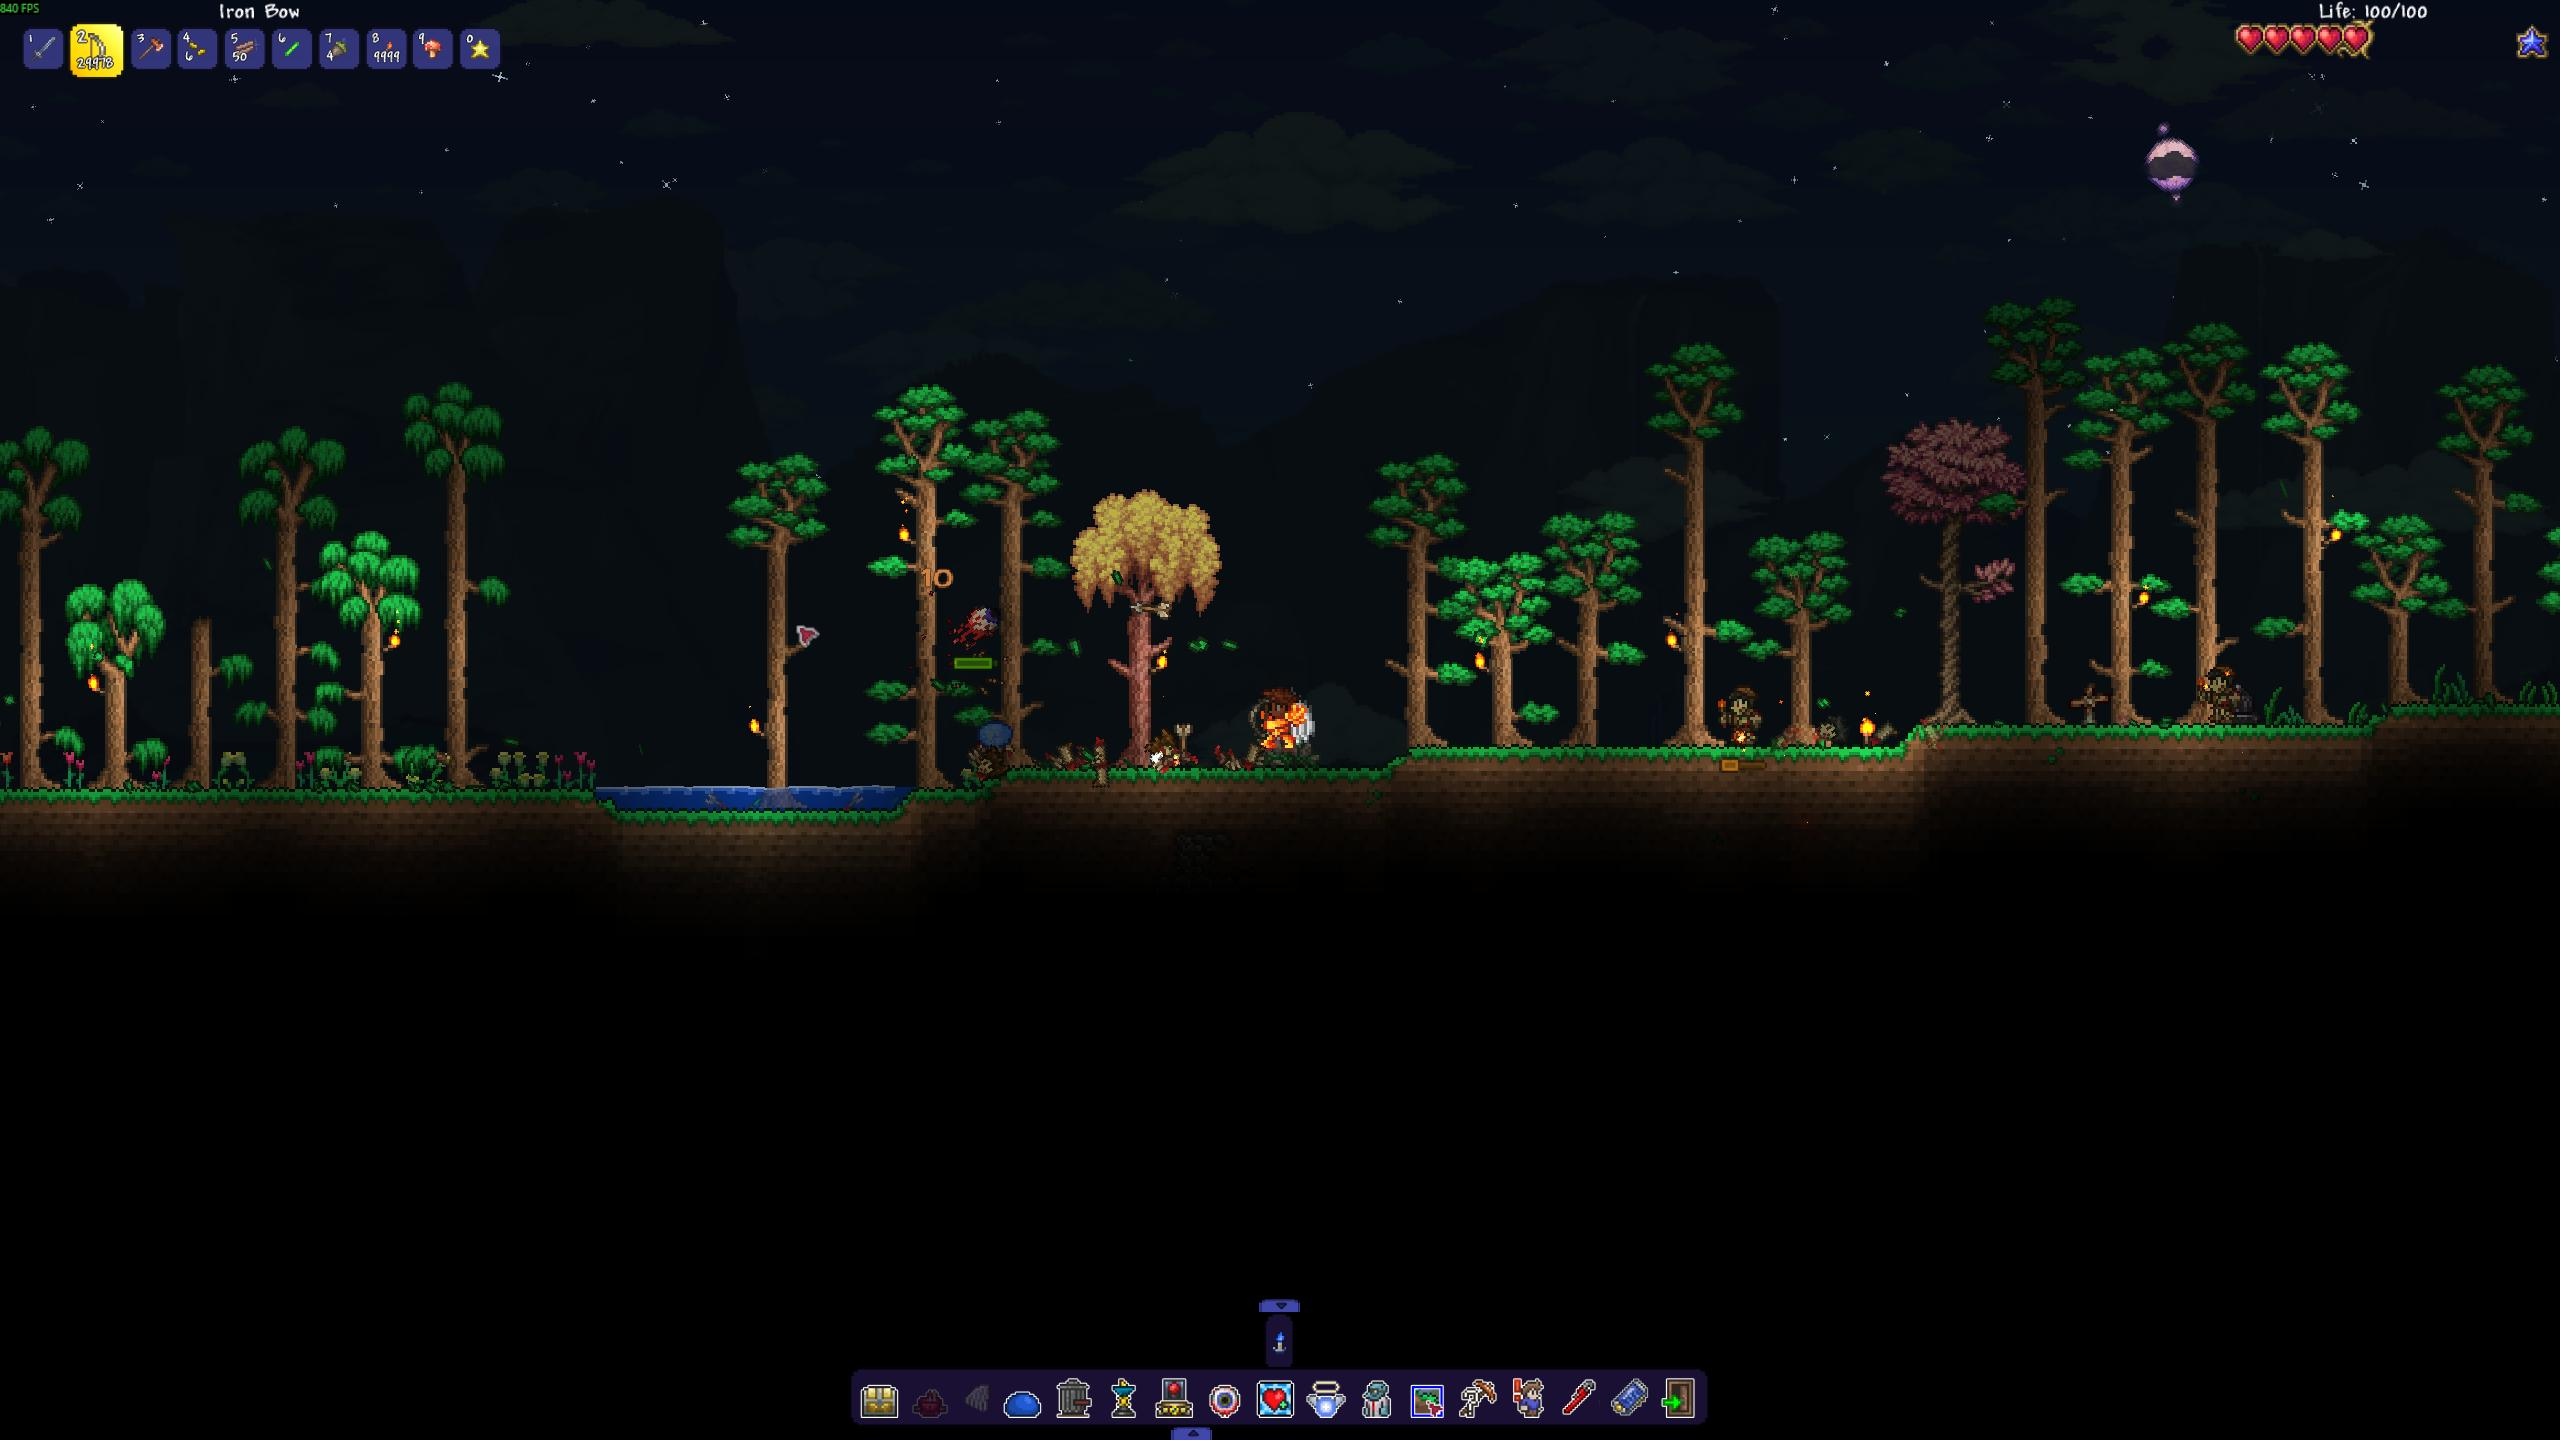Demon Eye: (951, 600, 1002, 652)
Zombie: (2191, 658, 2242, 724), (1713, 686, 1765, 744), (972, 723, 1020, 770)
